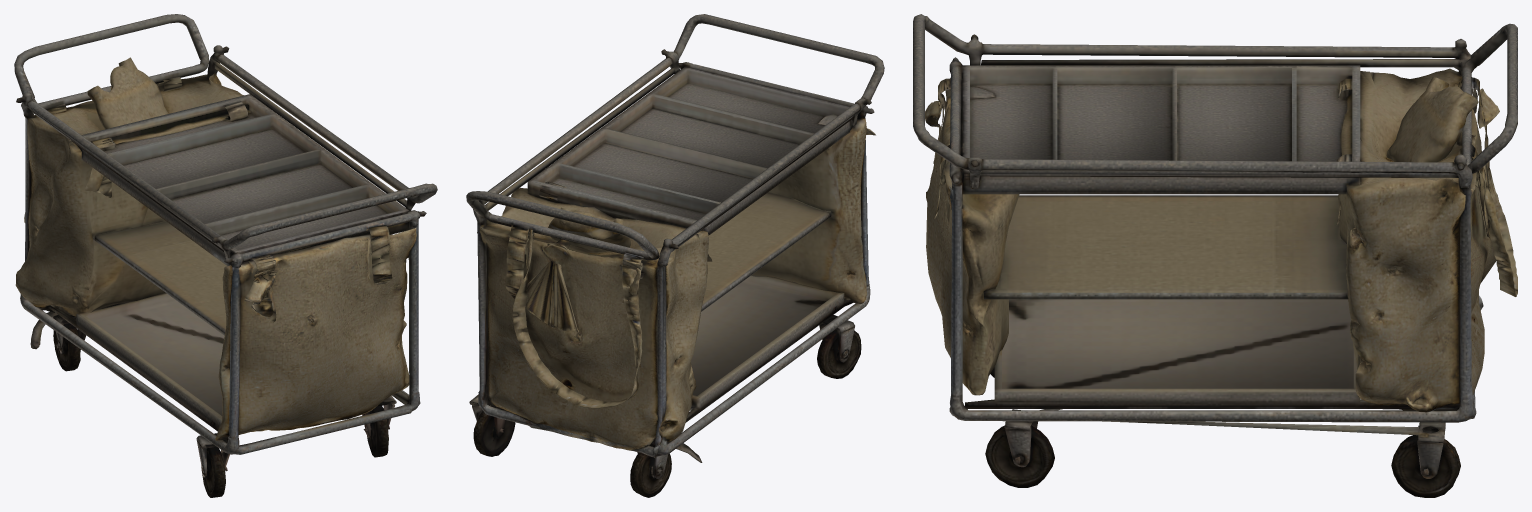
The picture shows the model from 3 angles, left to right: view 1: azimuth 30°, elevation 25°; view 2: azimuth 150°, elevation 25°; view 3: azimuth 270°, elevation 25°; orthographic projection. The views are drawn at different scales.
Parts seen in each view (by area): view 1: tripo_node_14968949-a4f7-4250-a53a-2cc02198563f; view 2: tripo_node_14968949-a4f7-4250-a53a-2cc02198563f; view 3: tripo_node_14968949-a4f7-4250-a53a-2cc02198563f.
Boxes of the visible parts, x1,y1,x2,y2 form: tripo_node_14968949-a4f7-4250-a53a-2cc02198563f: [14, 14, 437, 497]; tripo_node_14968949-a4f7-4250-a53a-2cc02198563f: [466, 14, 884, 497]; tripo_node_14968949-a4f7-4250-a53a-2cc02198563f: [913, 14, 1517, 497].
Bounding box in the file's own units: 0.5293 × 0.6738 × 0.998.
1 material, 1 textured.
